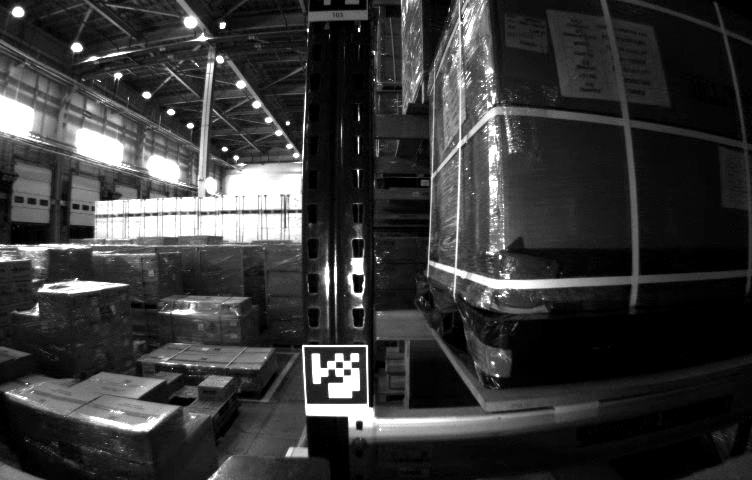True Barcode: (503, 11, 547, 56)
